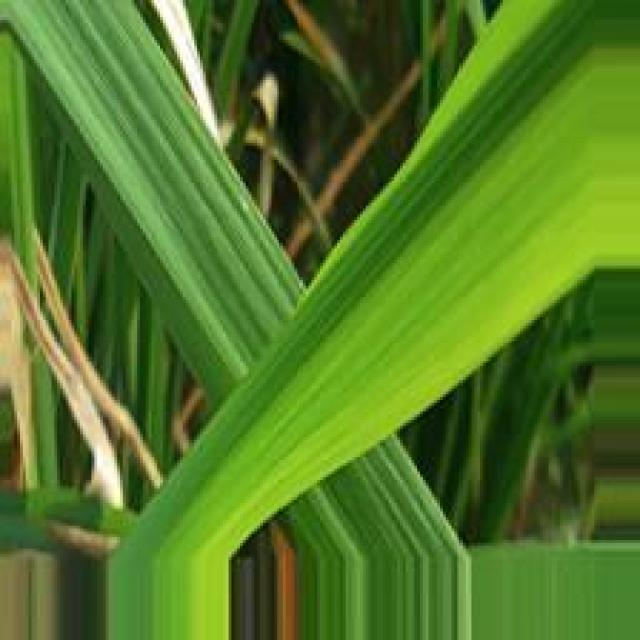HealthyLeaf: (170, 9, 573, 492), (7, 1, 302, 407), (280, 441, 459, 555)
